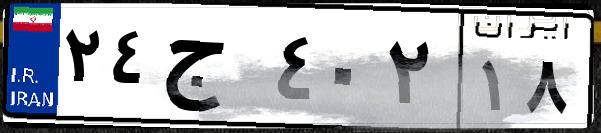0: (330, 28, 385, 110)
1: (475, 38, 525, 113)
2: (385, 28, 445, 110), (57, 26, 110, 100)
4: (270, 28, 330, 110), (110, 28, 158, 98)
8: (525, 38, 570, 115)
ج: (158, 20, 270, 120)
